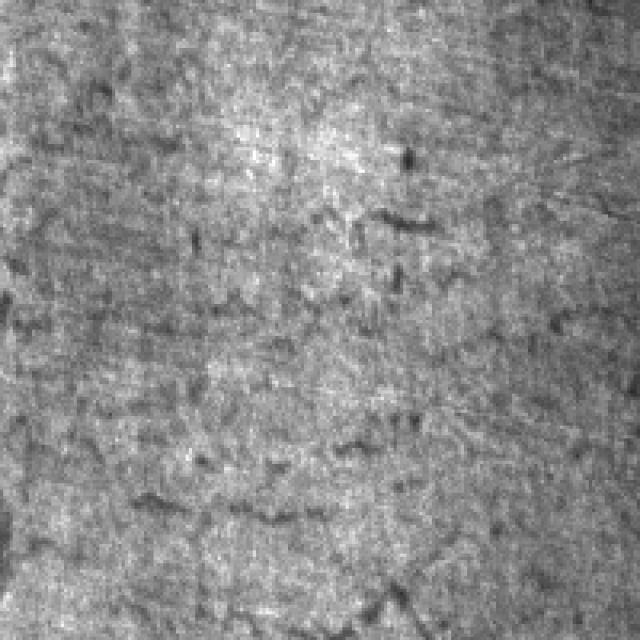crazing: (9, 304, 636, 534), (7, 16, 276, 368), (74, 470, 556, 637), (208, 160, 595, 365)
